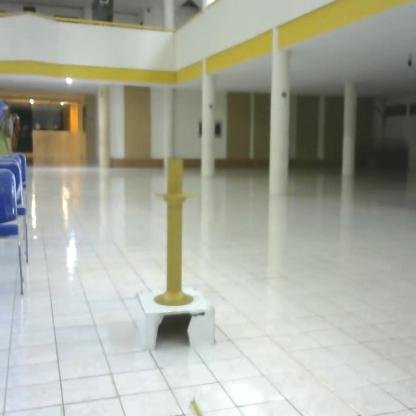pole: (149, 150, 204, 310)
